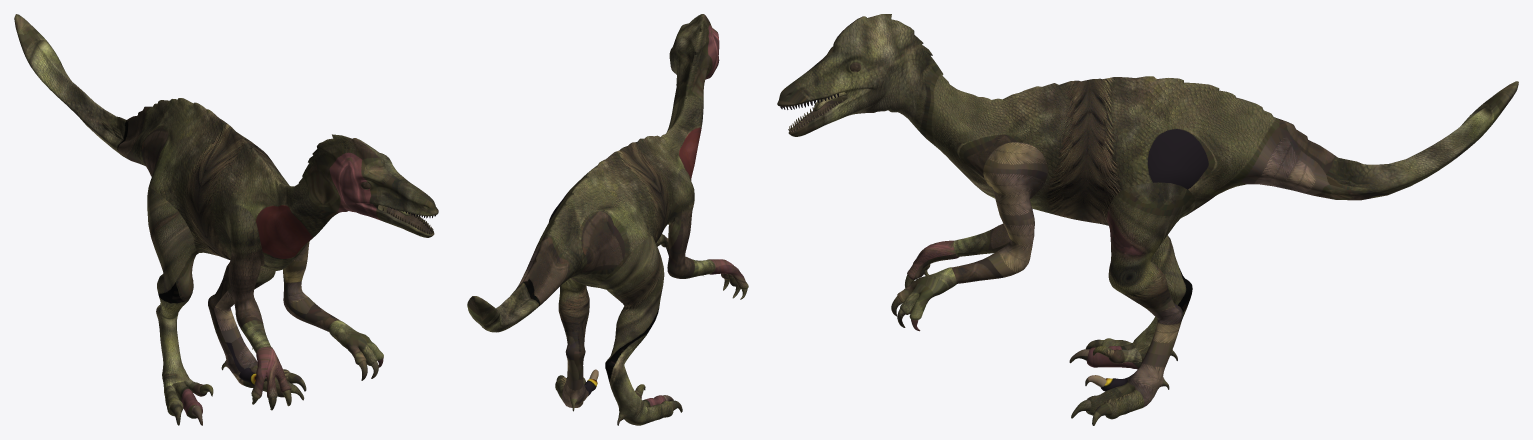
Rendered from trodon.fbx.
3 views of the same model, side by side, from view 1: azimuth 30°, elevation 25°; view 2: azimuth 150°, elevation 25°; view 3: azimuth 270°, elevation 25° (orthographic). The views are drawn at different scales.
Visible parts, largest first — view 1: node_id30; view 2: node_id30; view 3: node_id30.
Boxes of the visible parts, bbox=[...] form: node_id30: bbox=[14, 14, 438, 425]; node_id30: bbox=[467, 14, 748, 425]; node_id30: bbox=[777, 14, 1518, 425].
Size of the model in its own units: 40.8 by 178 by 101.
